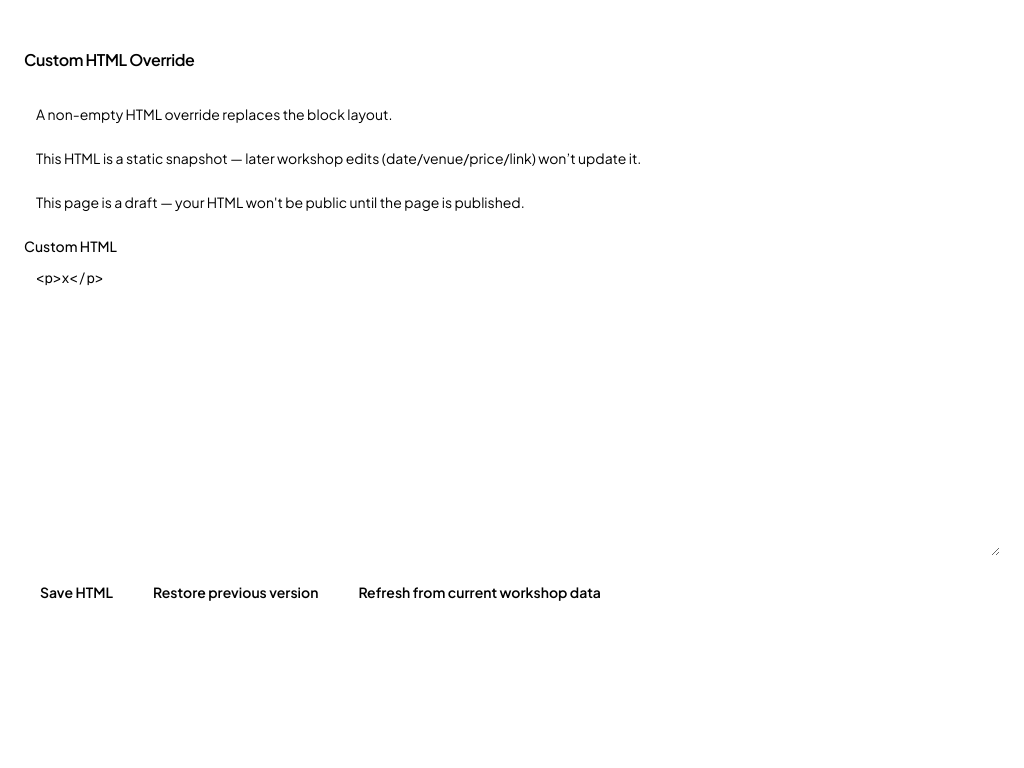
Test case: shows the sanitizer-stripped warning when response has sanitizerStripped:true
Replace the text in the text box labelled "Custom HTML" with "<script>bad</script><p>ok</p>" at (512, 408), box [24,260,1000,556]
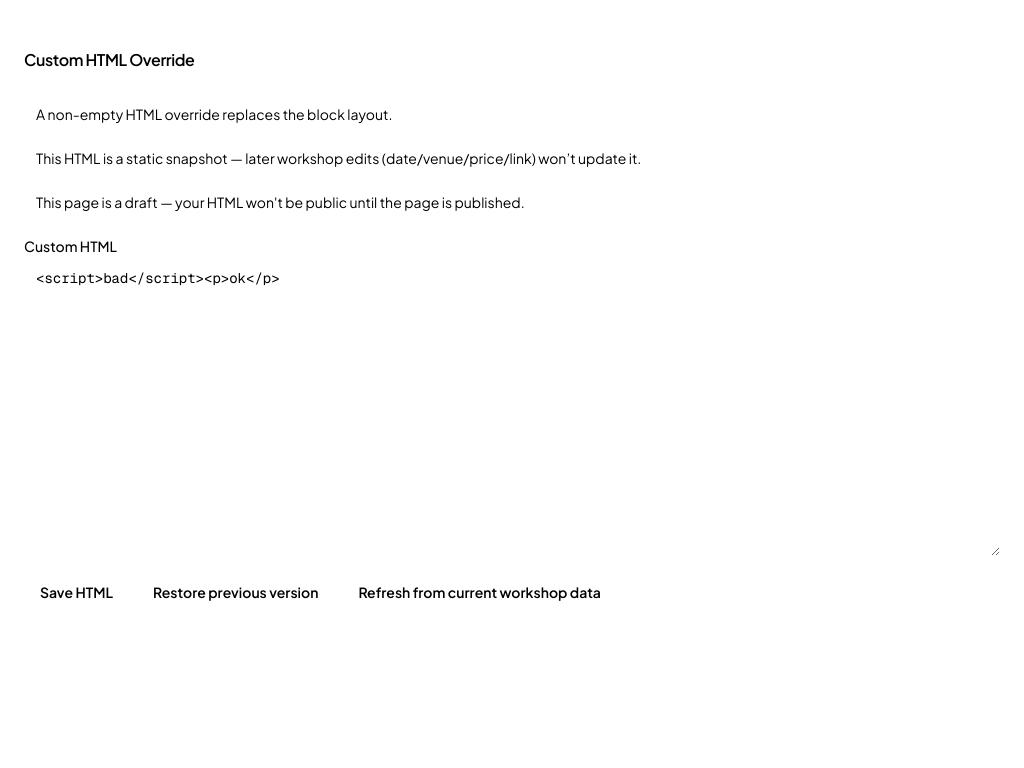
Click the button "Save HTML" at (76, 592), box [24,572,129,612]
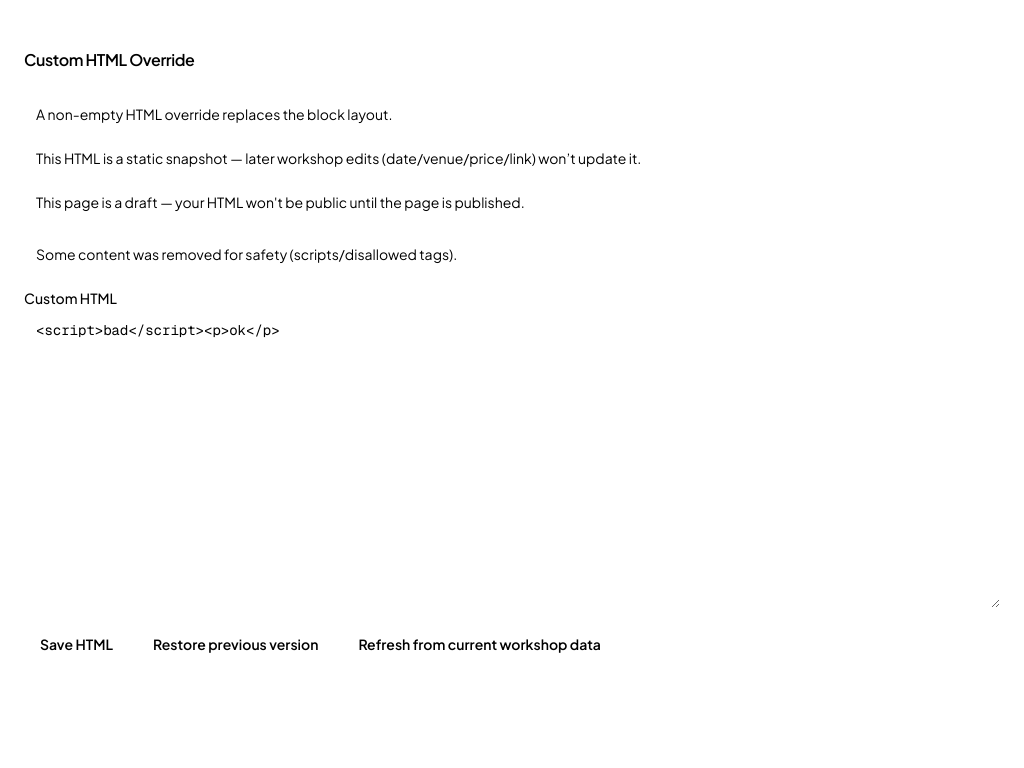
Result: the text "Some content was removed for safety (scripts/disallowed tags)." is shown at [36,245,457,263]
